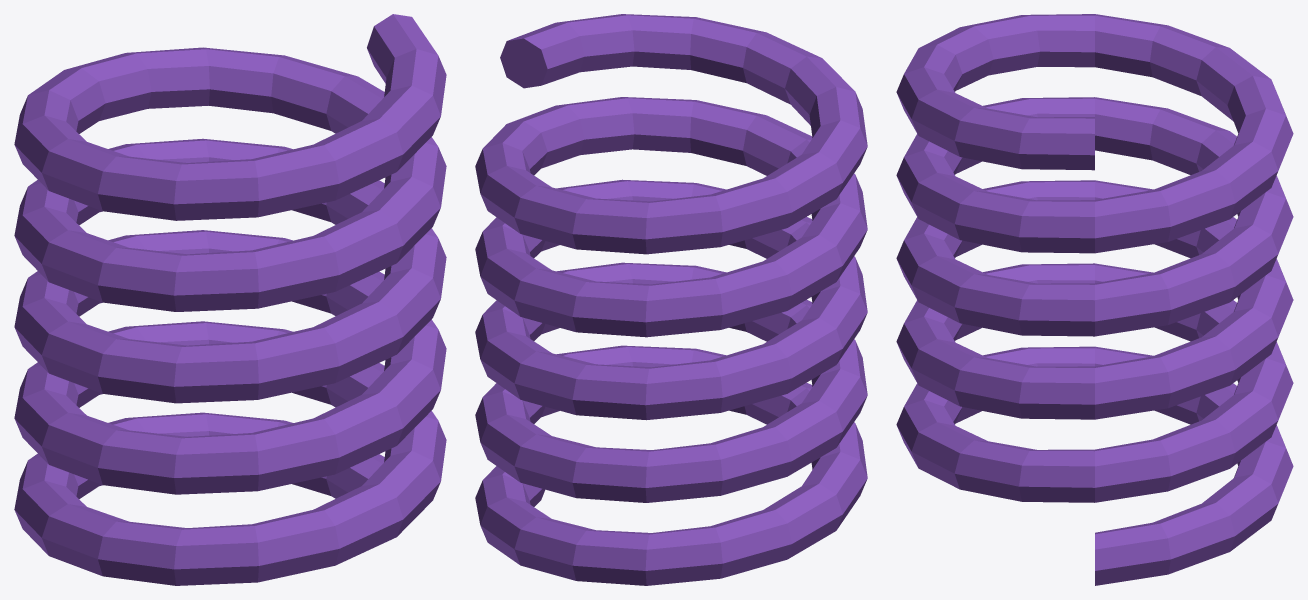
The model's file is SPRING COLLECTABLE.fbx.
The picture shows the model from 3 angles, left to right: view 1: azimuth 30°, elevation 25°; view 2: azimuth 150°, elevation 25°; view 3: azimuth 270°, elevation 25°; orthographic projection. The views are drawn at different scales.
Visible parts, largest first — view 1: Cube; view 2: Cube; view 3: Cube.
Part boxes in pixels (box(x1,y1,x2,y2)): Cube: box(14, 14, 446, 585); Cube: box(475, 14, 867, 585); Cube: box(896, 14, 1293, 585).
Size of the model in its own units: 68.37 by 88.49 by 68.37.
